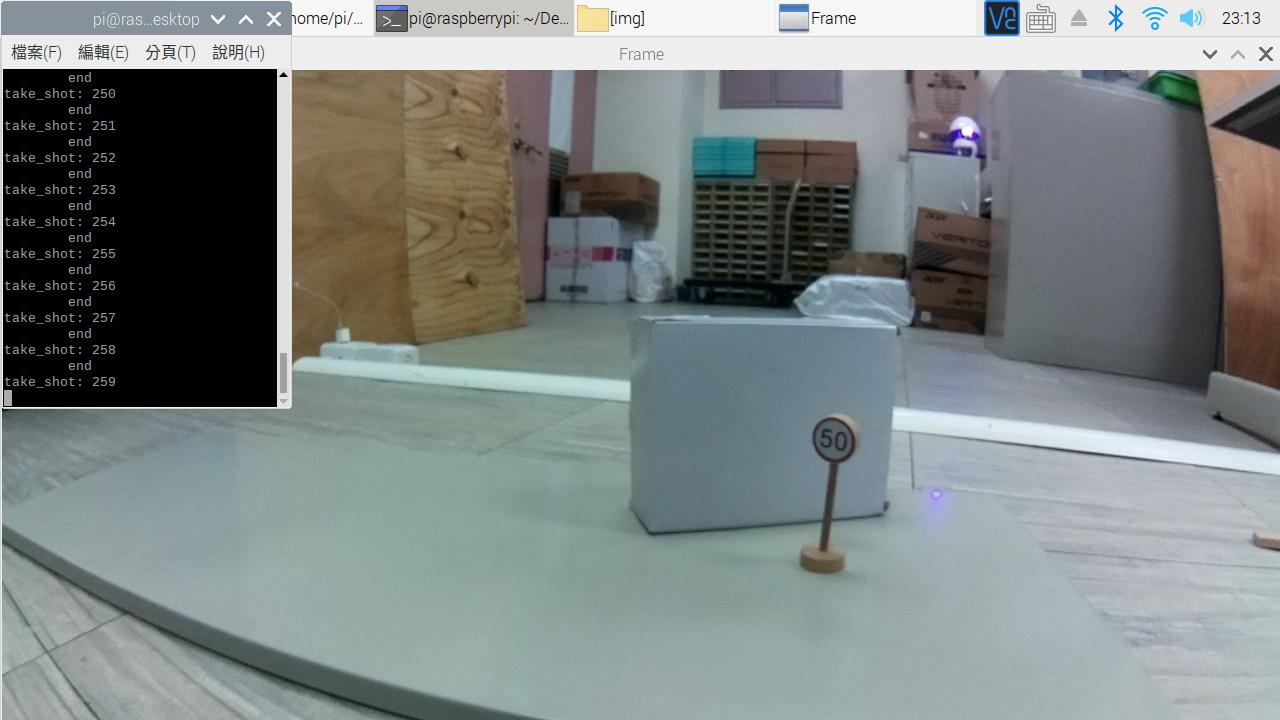Speed50: (798, 404, 881, 479)
